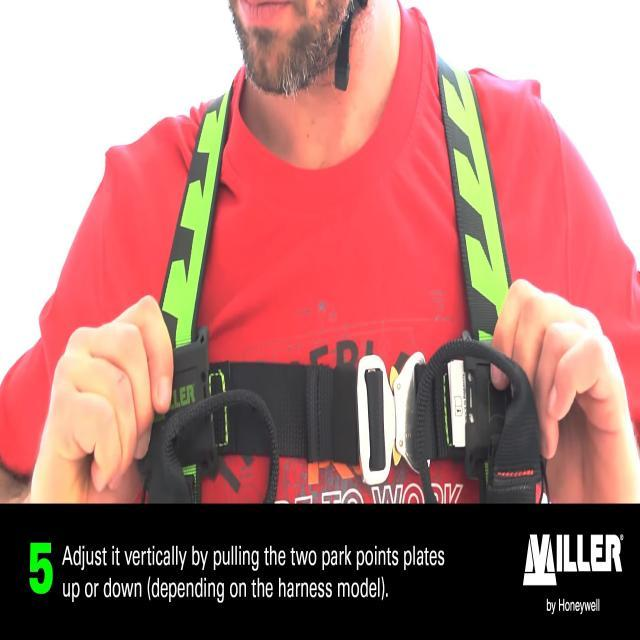belt: (139, 67, 550, 504)
